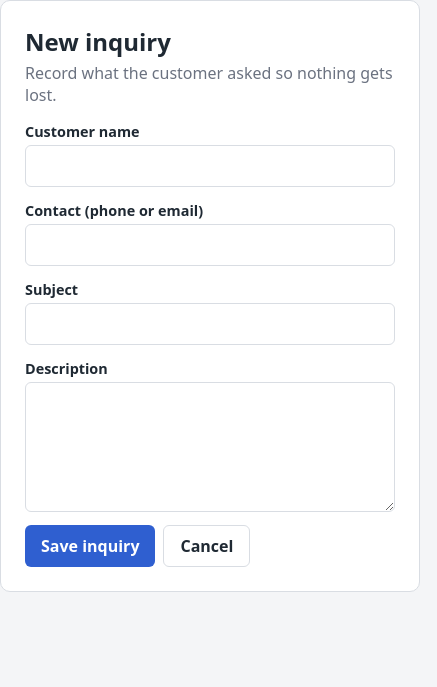
Test: CreateInquiryPage › shows the server message and keeps what the user typed when saving fails
In the field labelled "Customer name": (210, 166) [25,145,395,187], type "Nimal Perera"
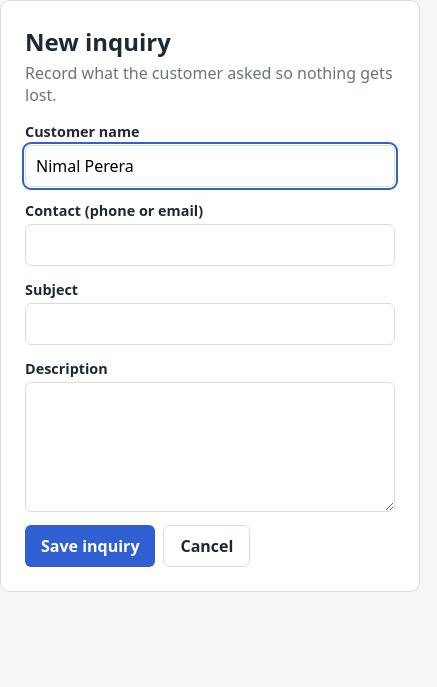
In the field labelled "Contact (phone or email)": (210, 245) [25,224,395,266], type "0771234567"
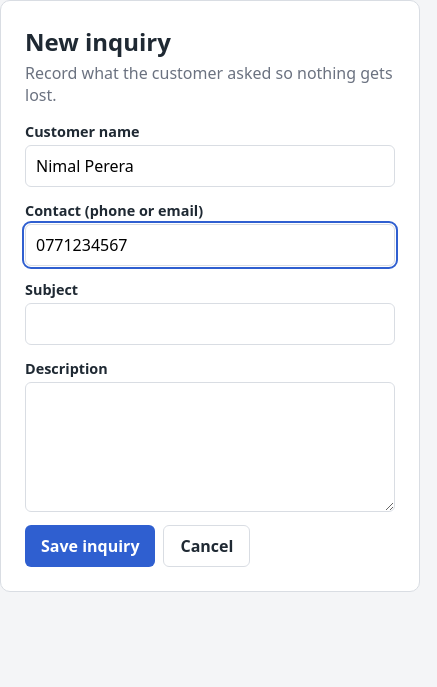
In the field labelled "Subject": (210, 324) [25,303,395,345], type "Late delivery"
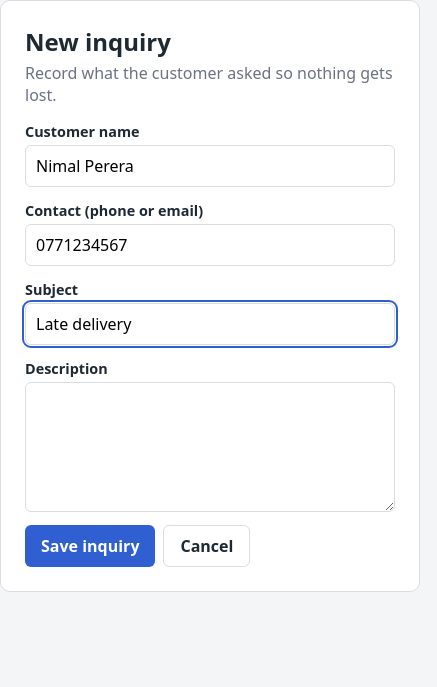
In the text box labelled "Description": (210, 447) [25,382,395,512], type "Order has not arrived."
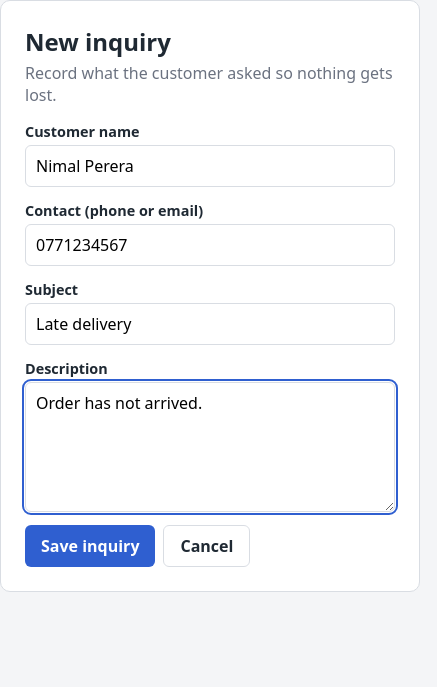
Click the button "Save inquiry": (90, 546) [25,525,156,567]
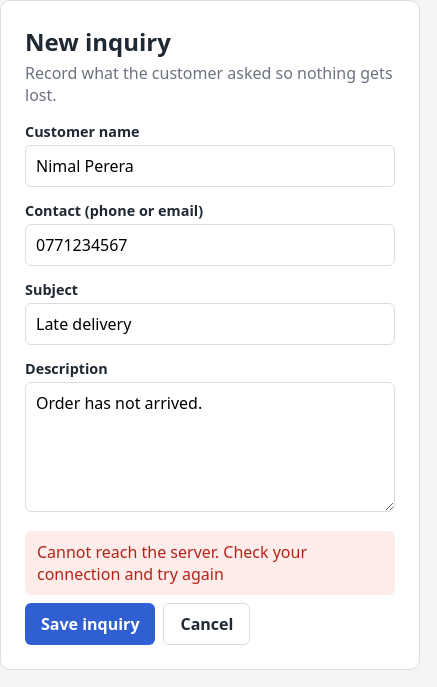
Expected: the button "Save inquiry" is enabled, [25,603,156,645]
Result: the message shows "Cannot reach the server" at [37,541,307,585]
